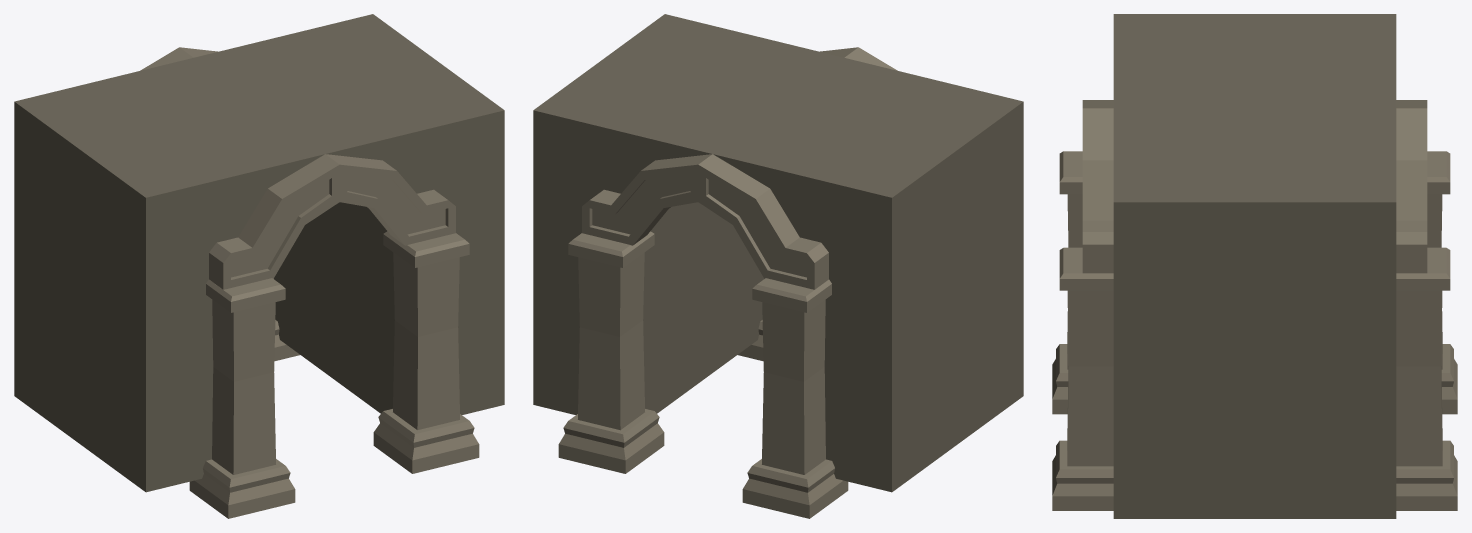
The model's file is TempleWall_E.fbx.
3 renders of one model, left to right at view 1: azimuth 30°, elevation 25°; view 2: azimuth 150°, elevation 25°; view 3: azimuth 270°, elevation 25°, orthographic. The views are drawn at different scales.
Visible parts, largest first — view 1: TempleWall_E; view 2: TempleWall_E; view 3: TempleWall_E.
Part boxes in pixels (box(x1,y1,x2,y2)): TempleWall_E: box(14, 14, 504, 518); TempleWall_E: box(533, 14, 1023, 518); TempleWall_E: box(1052, 14, 1457, 518).
Size of the model in its own units: 1032 by 862 by 940.
